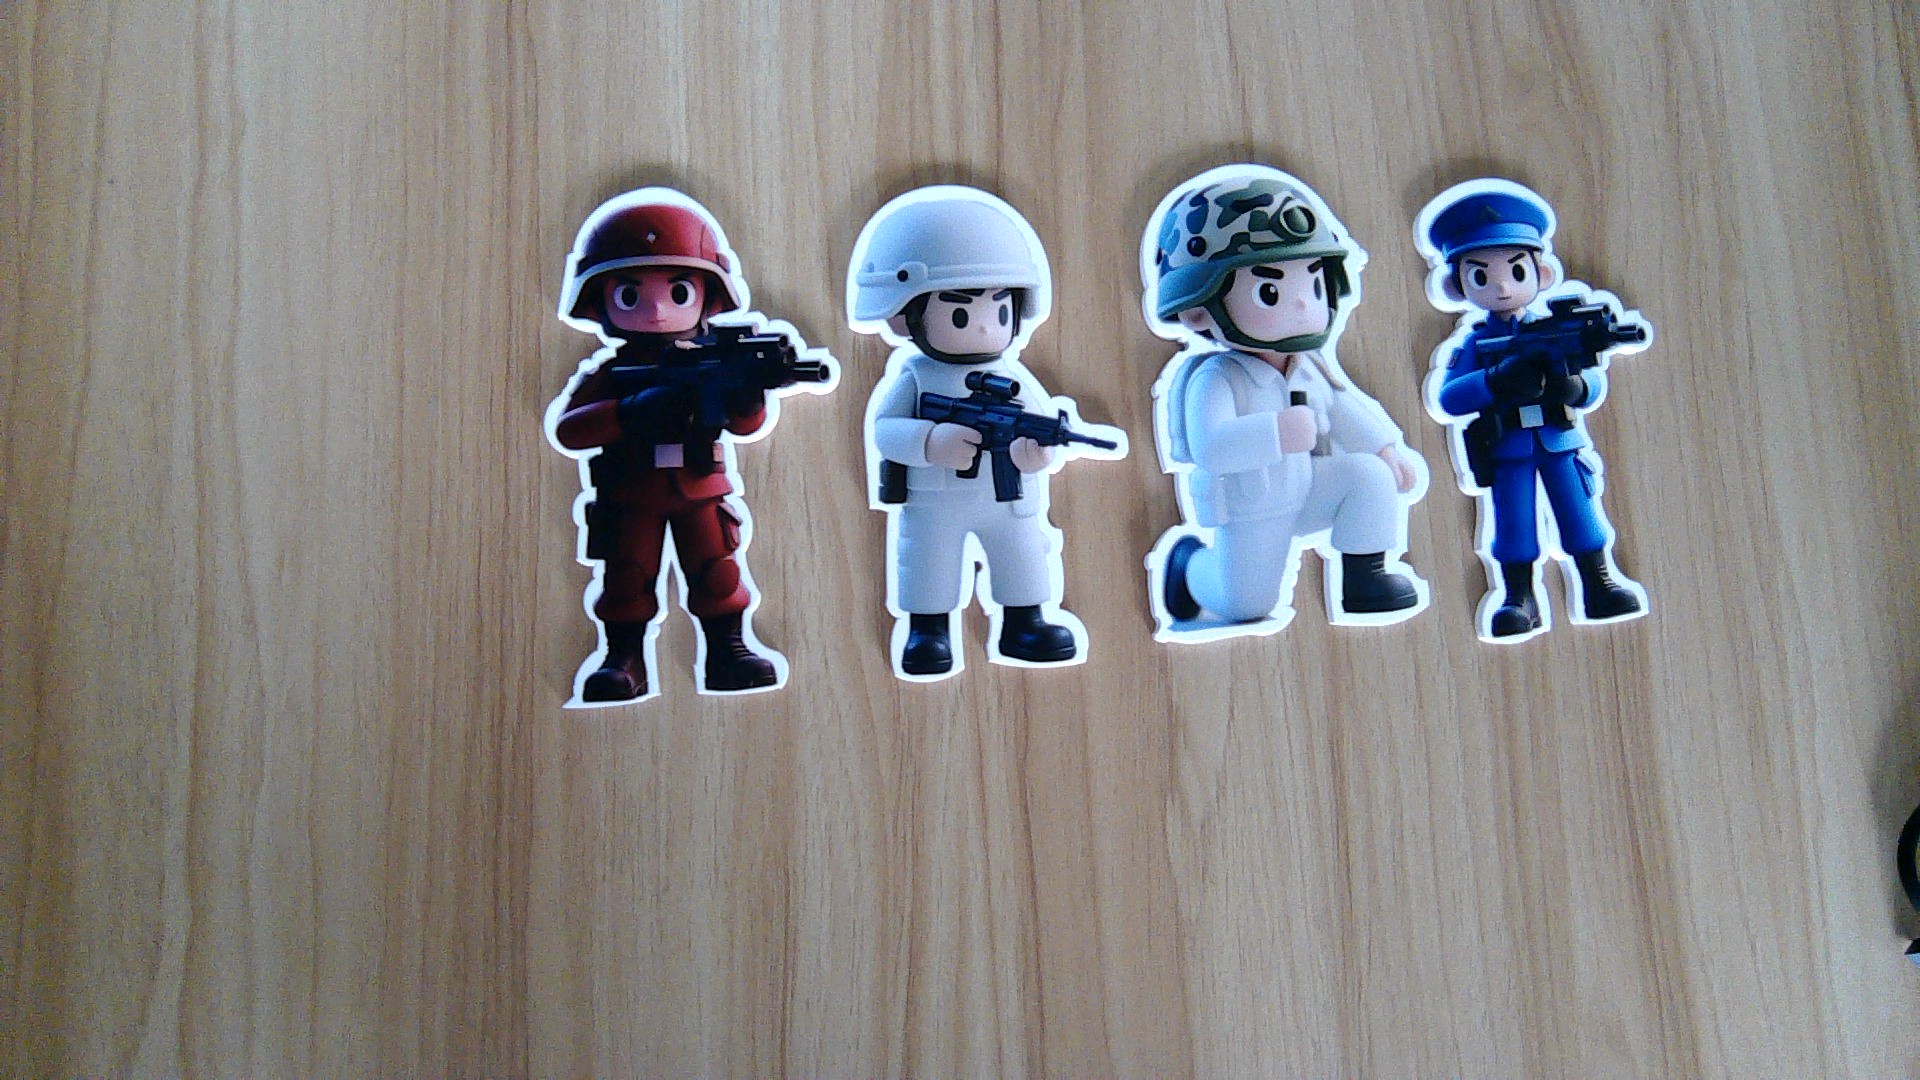人质: (1142, 348, 1437, 651), (855, 360, 1127, 687)
敌人1: (530, 334, 803, 713)
敌人2: (1412, 303, 1676, 647)
